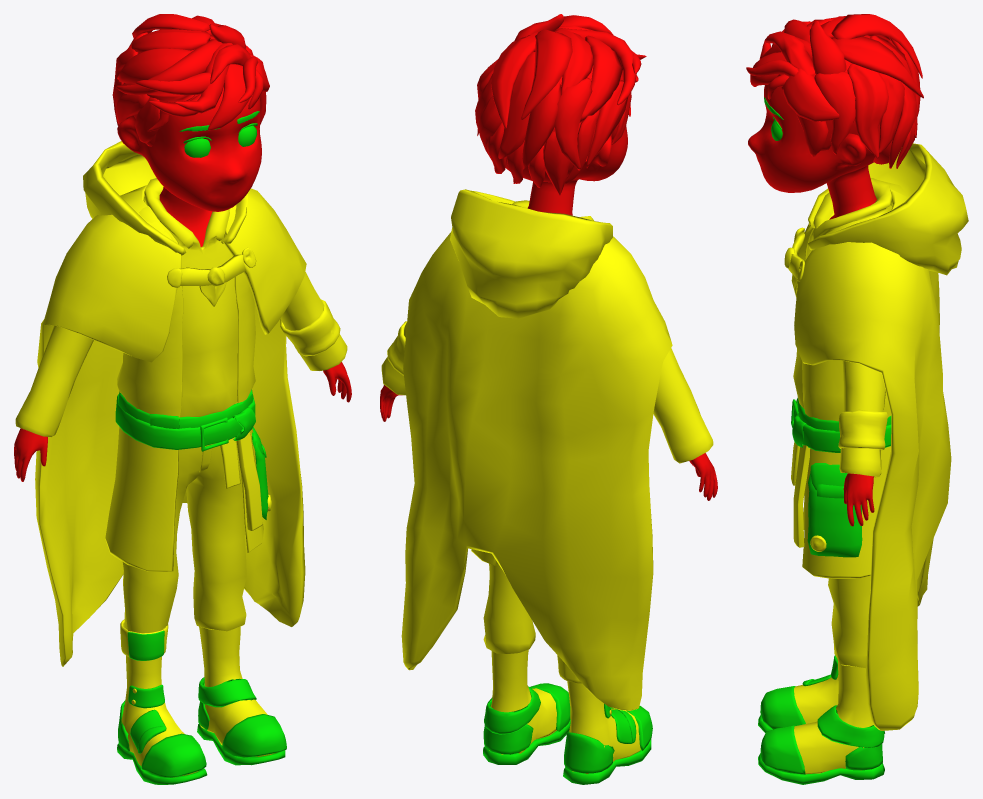
Rendered from ANA_KARAKTER. (1).fbx.
3 views of the same model, side by side, from view 1: azimuth 30°, elevation 25°; view 2: azimuth 150°, elevation 25°; view 3: azimuth 270°, elevation 25° (orthographic).
Parts seen in each view (by area): view 1: VUCUD, KAFA, GOZ_AYAKKABI; view 2: VUCUD, KAFA, GOZ_AYAKKABI; view 3: VUCUD, KAFA, GOZ_AYAKKABI.
Part boxes in pixels (left/top/right/bottom): VUCUD: left=15, top=141, right=347, bottom=777; KAFA: left=14, top=14, right=351, bottom=481; GOZ_AYAKKABI: left=115, top=111, right=286, bottom=784; VUCUD: left=381, top=189, right=713, bottom=774; KAFA: left=380, top=14, right=717, bottom=500; GOZ_AYAKKABI: left=483, top=683, right=652, bottom=784; VUCUD: left=784, top=143, right=968, bottom=774; KAFA: left=746, top=14, right=923, bottom=526; GOZ_AYAKKABI: left=758, top=97, right=891, bottom=784.
Bounding box in the file's own units: 3.45 × 7.32 × 2.
